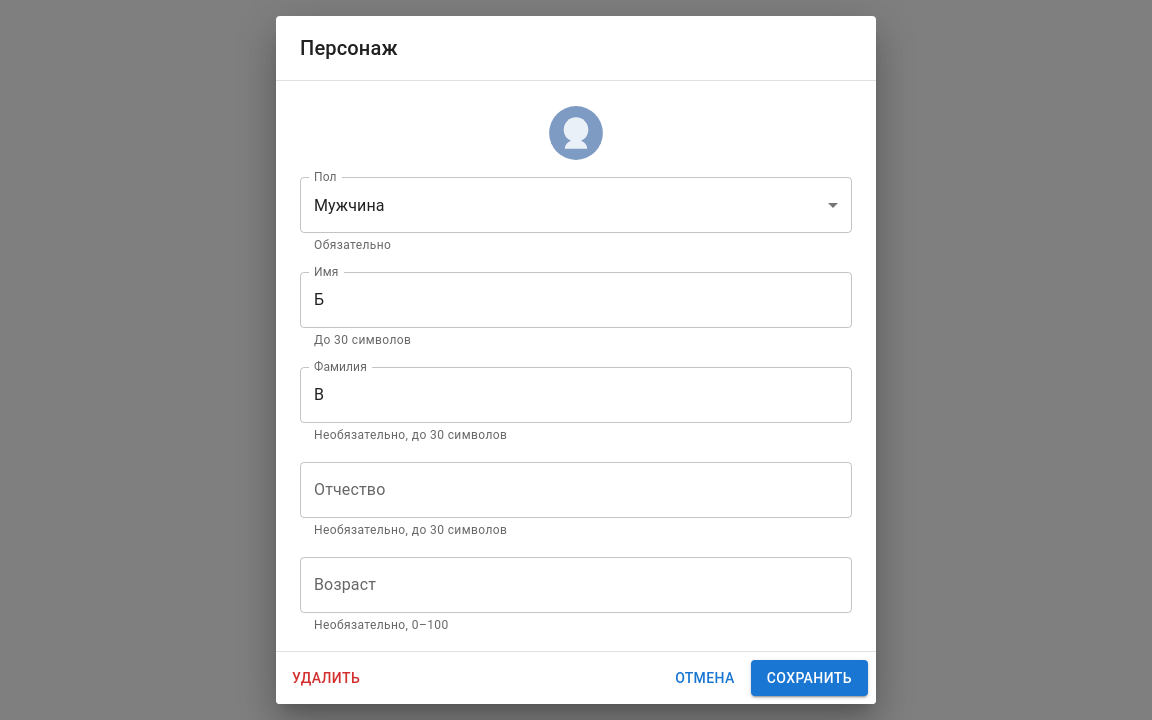
Test: avatar menu offers Add when the character has no custom avatar
The image size is (1152, 720).
Click the button with test id "avatar-button" at (576, 133), box [548,105,604,161]
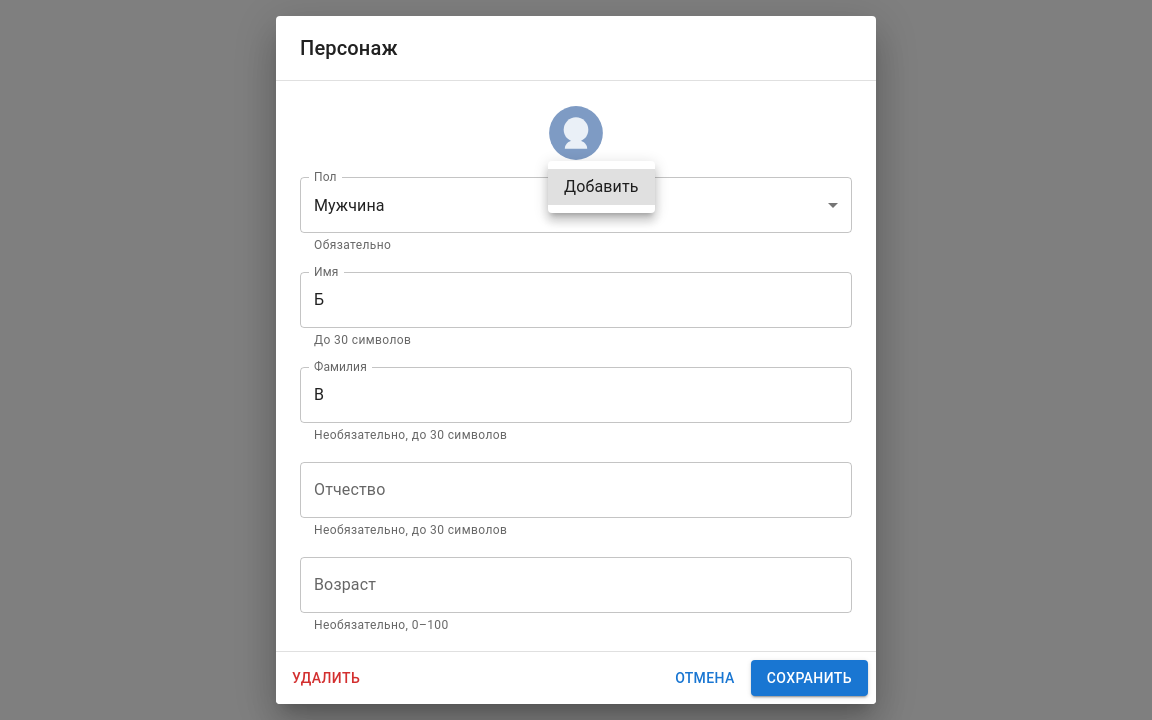
Expected: the menu item "Добавить" is shown, [548,169,655,205]
